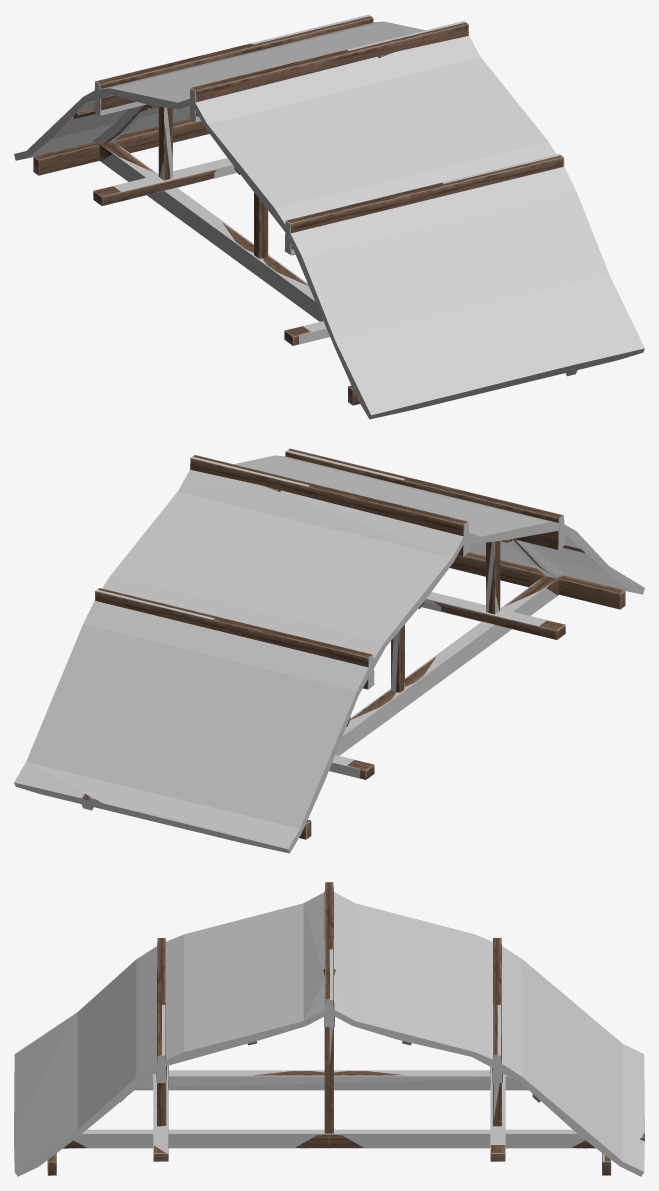
The model's file is SM_Hangar01RM_5.fbx.
3 renders of one model, top to bottom at view 1: azimuth 30°, elevation 25°; view 2: azimuth 150°, elevation 25°; view 3: azimuth 270°, elevation 25°, orthographic. The views are drawn at different scales.
Parts seen in each view (by area): view 1: SM_Hangar01RM_5_ConvexHulls, SM_Hangar01RM_5; view 2: SM_Hangar01RM_5_ConvexHulls, SM_Hangar01RM_5; view 3: SM_Hangar01RM_5_ConvexHulls, SM_Hangar01RM_5.
Part boxes in pixels (box(x1,y1,x2,y2)): SM_Hangar01RM_5_ConvexHulls: box(14, 14, 644, 419); SM_Hangar01RM_5: box(33, 16, 563, 405); SM_Hangar01RM_5_ConvexHulls: box(14, 448, 644, 853); SM_Hangar01RM_5: box(82, 448, 625, 839); SM_Hangar01RM_5_ConvexHulls: box(14, 882, 644, 1176); SM_Hangar01RM_5: box(47, 882, 644, 1175).
Bounding box in the file's own units: 452 × 1022 × 330.
Materials: 4 (3 with a texture image).
